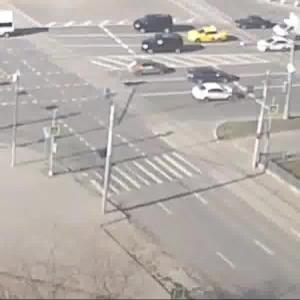car: (143, 35, 190, 57), (186, 68, 245, 84), (195, 81, 237, 102), (136, 17, 179, 37), (135, 57, 173, 79), (191, 28, 229, 47), (269, 18, 300, 41), (235, 16, 276, 32), (259, 39, 300, 55), (1, 9, 19, 39)
